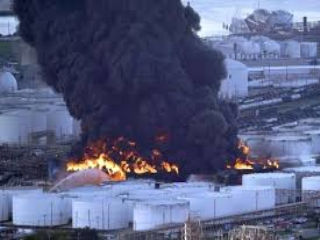fire: (68, 149, 141, 179), (229, 149, 279, 174), (151, 160, 183, 174)
smoke: (12, 4, 234, 170)
